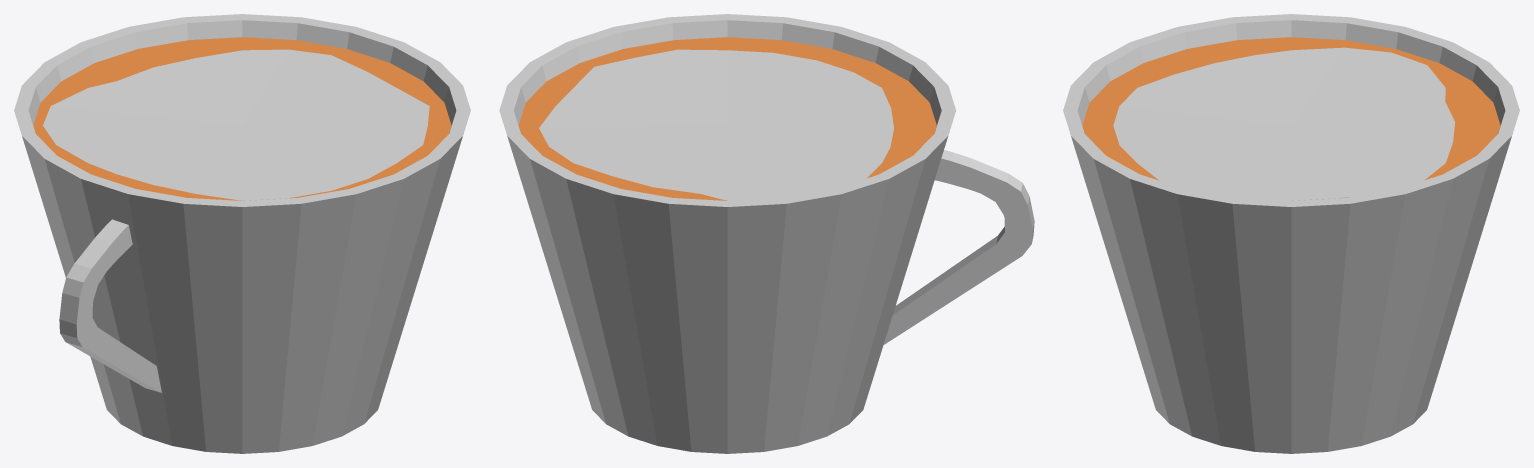
File: cap.obj
3 renders of one model, left to right at view 1: azimuth 30°, elevation 25°; view 2: azimuth 150°, elevation 25°; view 3: azimuth 270°, elevation 25°, orthographic.
Visible parts, largest first — view 1: Cylinder001, Object001, Box001; view 2: Cylinder001, Object001, Box001; view 3: Cylinder001, Object001.
Boxes of the visible parts, bbox=[...] form: Cylinder001: bbox=[14, 14, 470, 453]; Object001: bbox=[33, 37, 451, 200]; Box001: bbox=[59, 219, 161, 392]; Cylinder001: bbox=[499, 14, 955, 453]; Object001: bbox=[518, 37, 936, 200]; Box001: bbox=[883, 150, 1034, 344]; Cylinder001: bbox=[1063, 14, 1519, 453]; Object001: bbox=[1082, 37, 1500, 200].
Size of the model in its own units: 399791 by 245605 by 357965.
